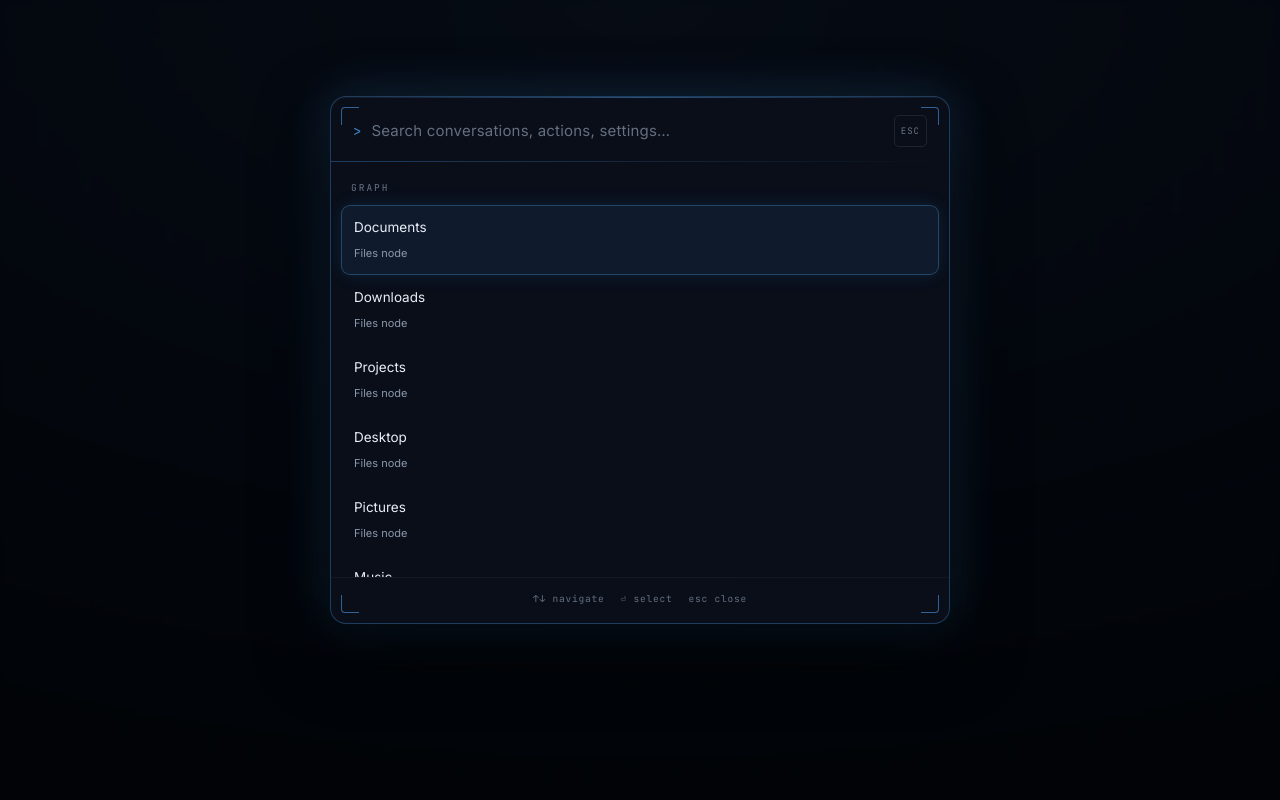
Test: CommandPalette › shows a No results line when nothing matches
Type "zzzzqqqq" into the field named "Command palette search" at (628, 131), box [371,119,884,143]
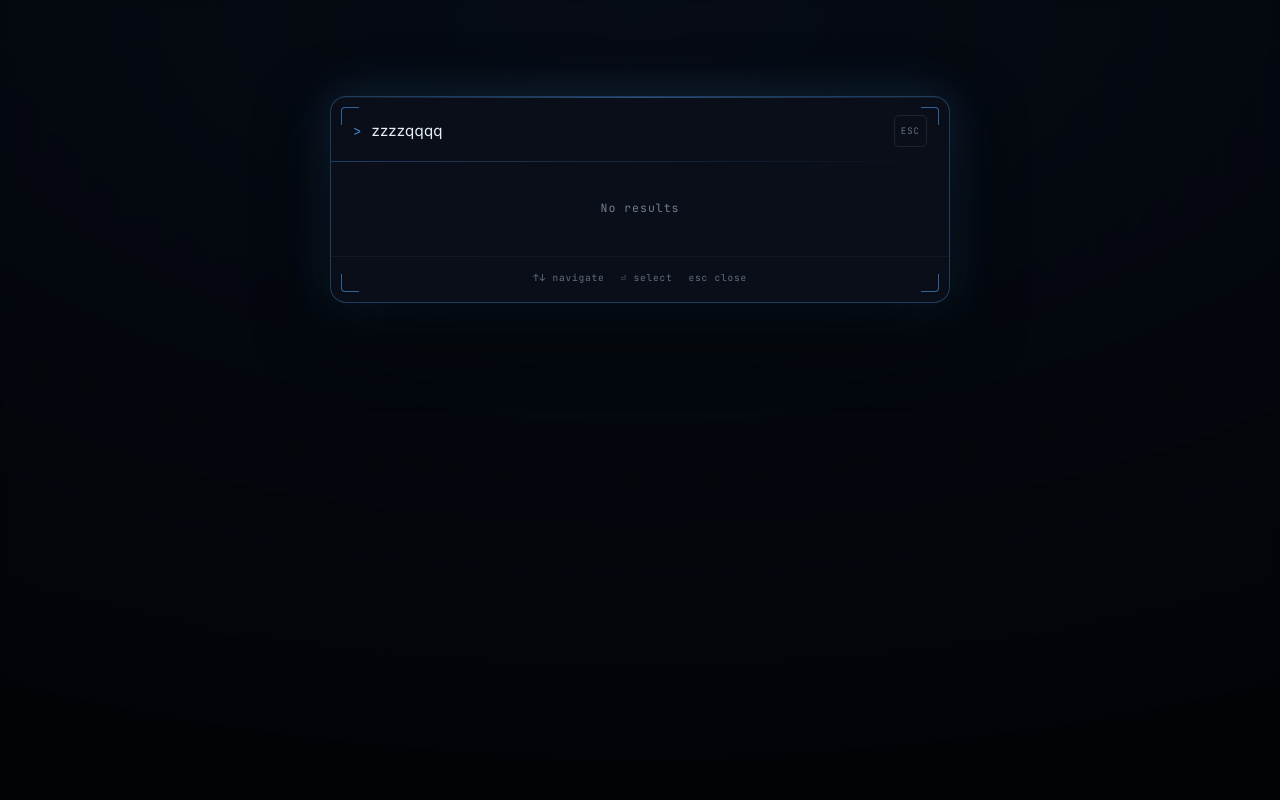
Result: the text "No results" is shown at [600,200,680,215]
